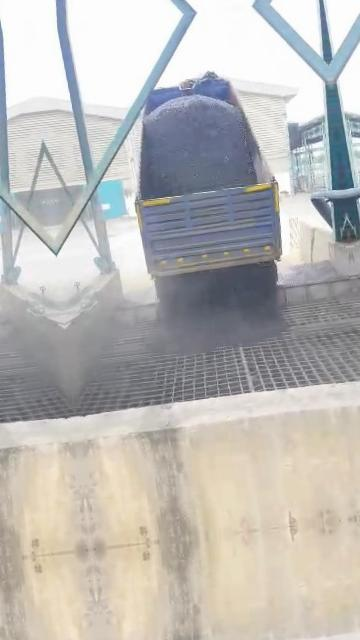gravel: (141, 95, 257, 197), (156, 266, 276, 350), (279, 261, 346, 287)
